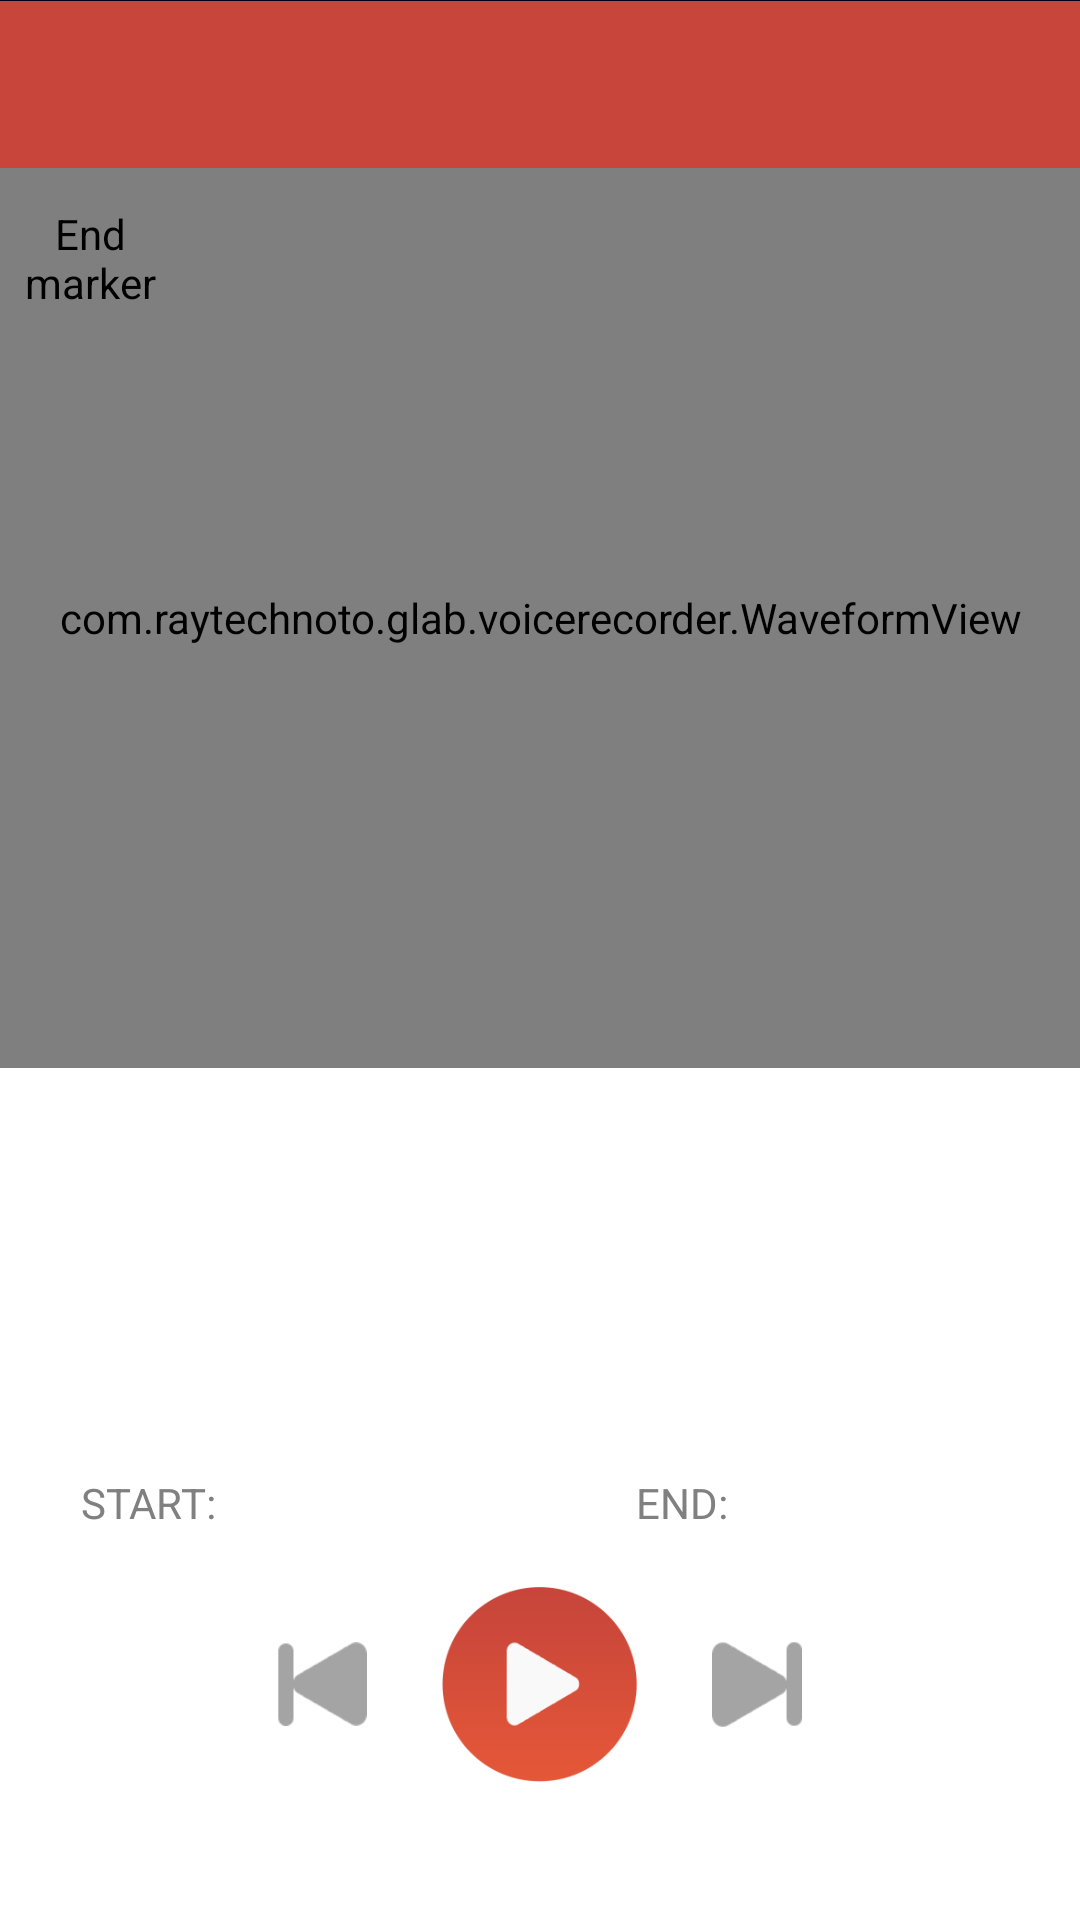

Icons on this 1080×1920 Android screen, each with its box as (x1, y1, x2, y2):
Fast forward: (712, 1642, 802, 1727)
Play: (442, 1587, 637, 1782)
Rewind: (278, 1642, 367, 1726)
